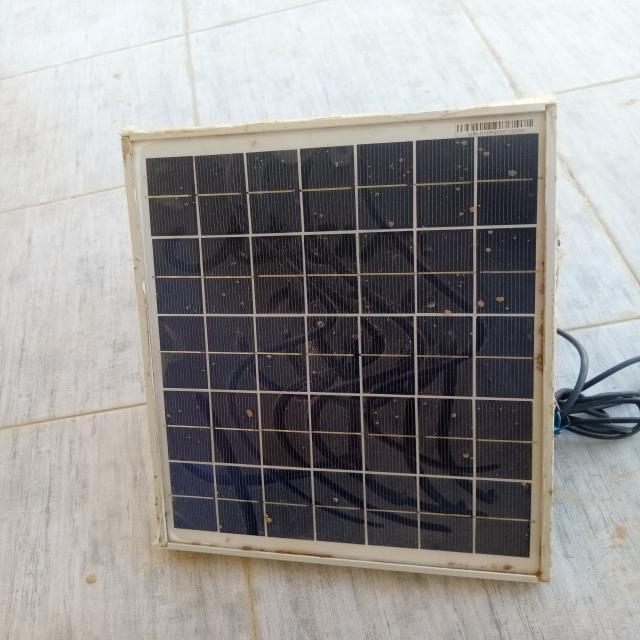faulty: (124, 107, 552, 580)
